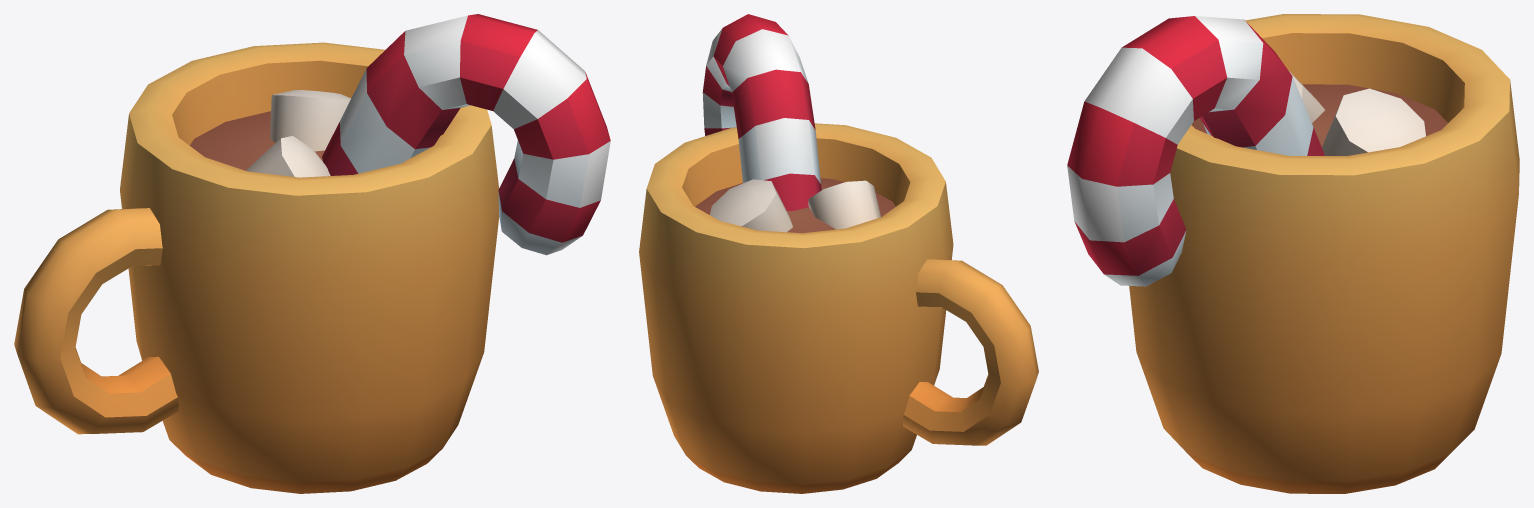
File: hot_chocolate_decorated.glb
3 renders of one model, left to right at view 1: azimuth 30°, elevation 25°; view 2: azimuth 150°, elevation 25°; view 3: azimuth 270°, elevation 25°, orthographic. The views are drawn at different scales.
Visible parts, largest first — view 1: hot_chocolate_decorated; view 2: hot_chocolate_decorated; view 3: hot_chocolate_decorated.
Part boxes in pixels (<box>): hot_chocolate_decorated: <box>14,14,610,493</box>; hot_chocolate_decorated: <box>639,14,1038,493</box>; hot_chocolate_decorated: <box>1067,14,1519,493</box>.
Size of the model in its own units: 0.6773 by 0.5789 by 0.5034.
Materials: 1 (1 with a texture image).
